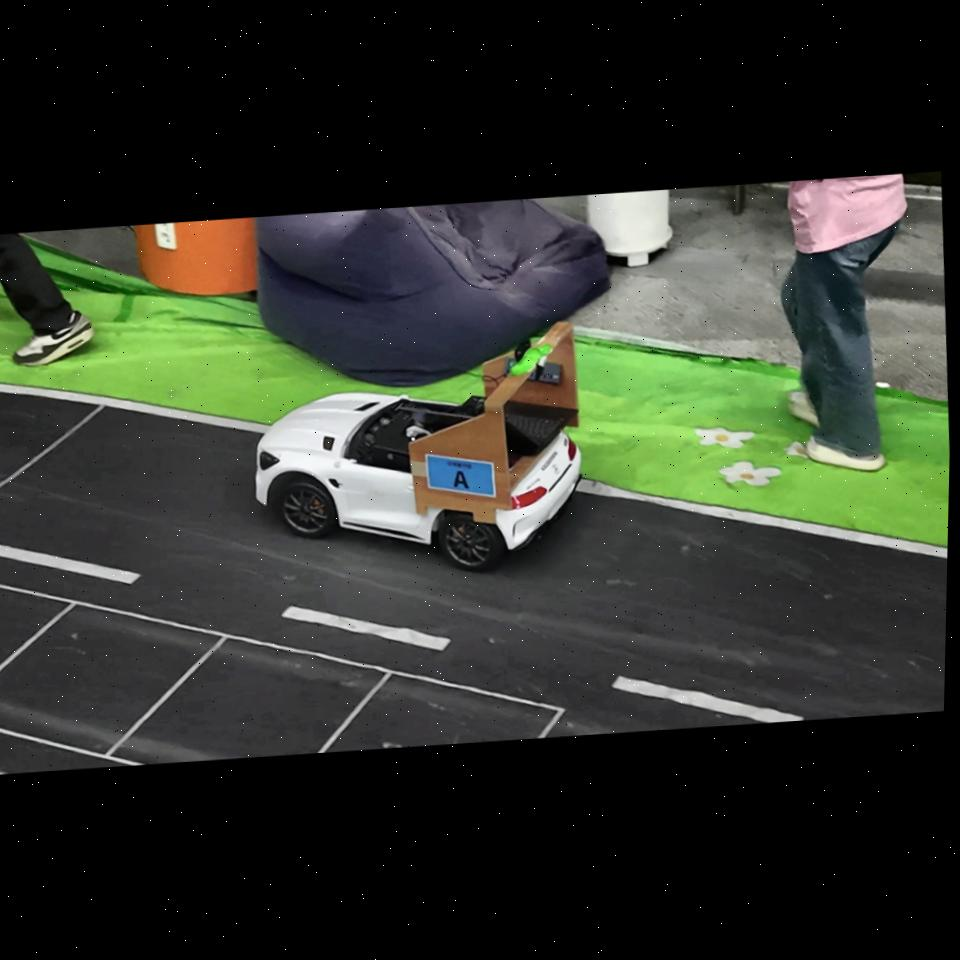broken_line: (612, 676, 805, 722), (281, 606, 450, 651), (0, 545, 141, 584)
